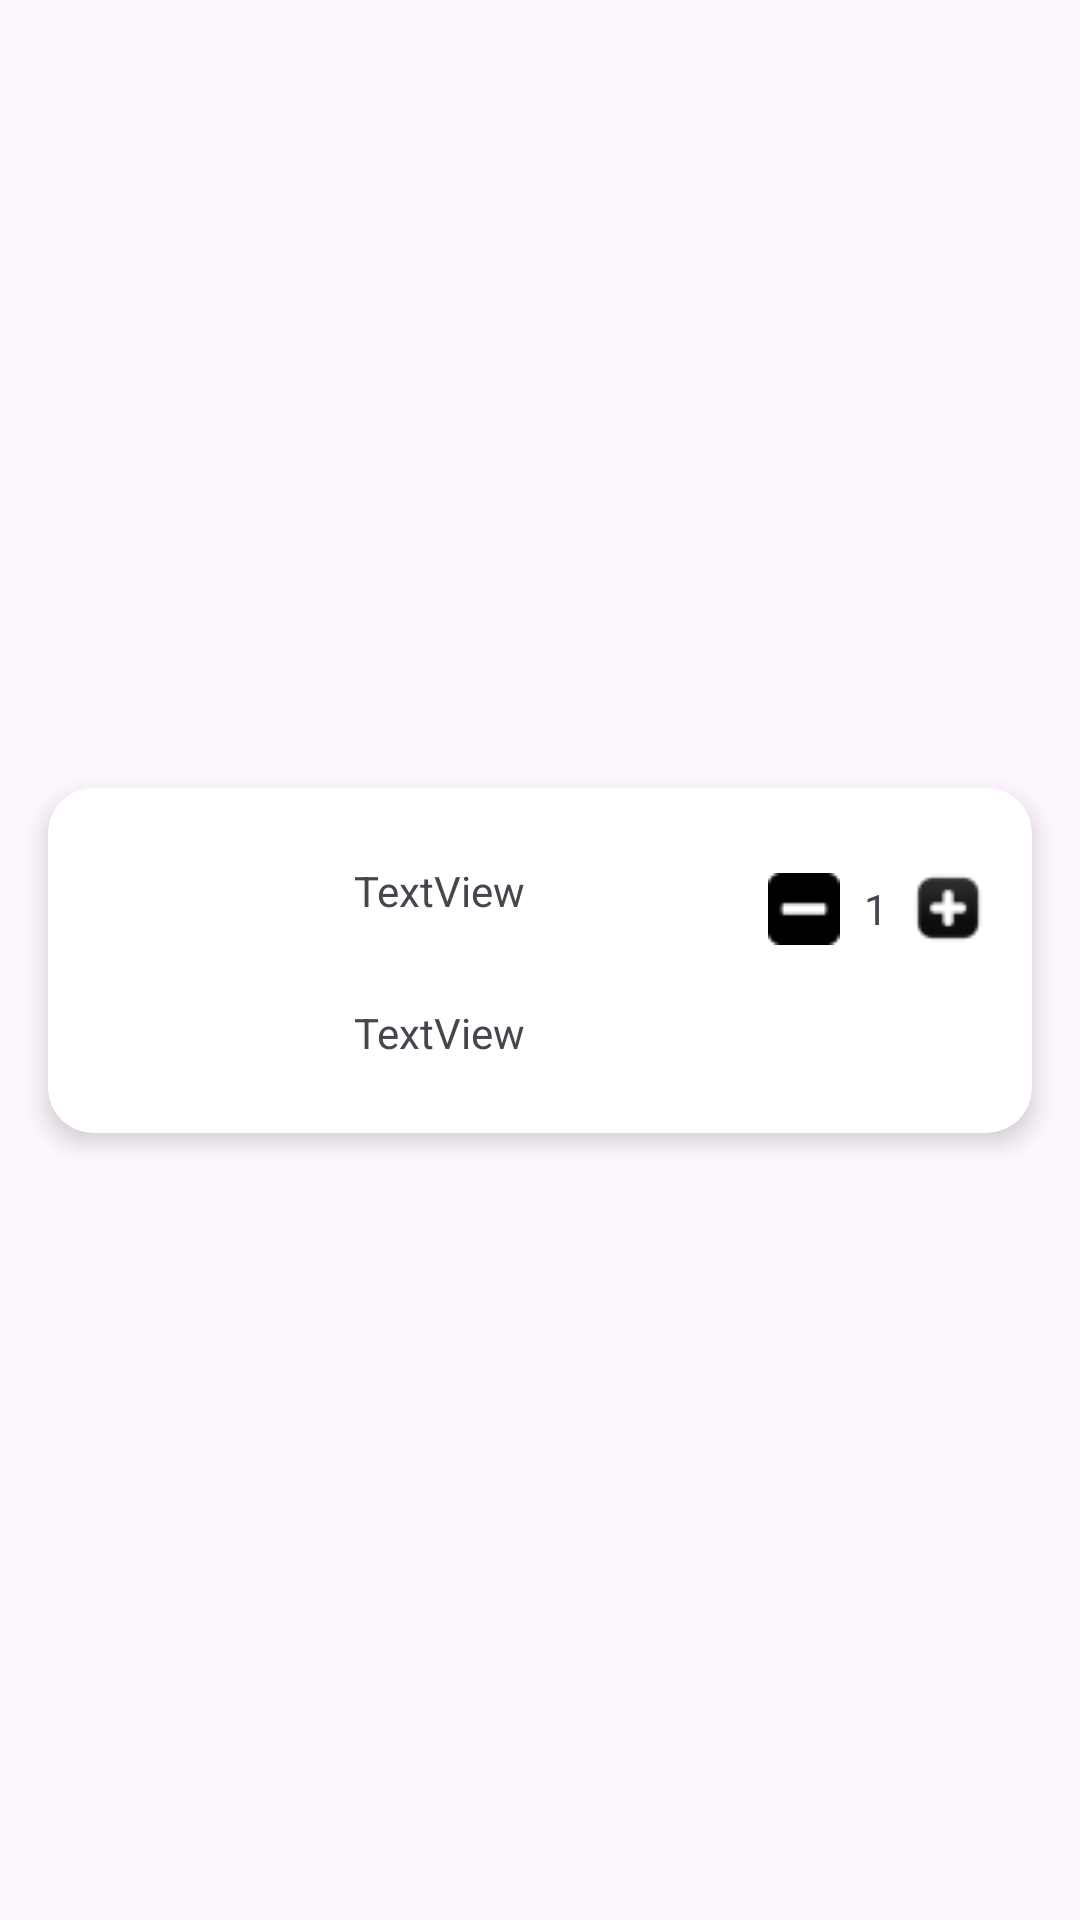

Icons on this 1080×1920 Android screen, each with the point to tap as [x,y]:
minus: [804,909]
plus: [948,908]
